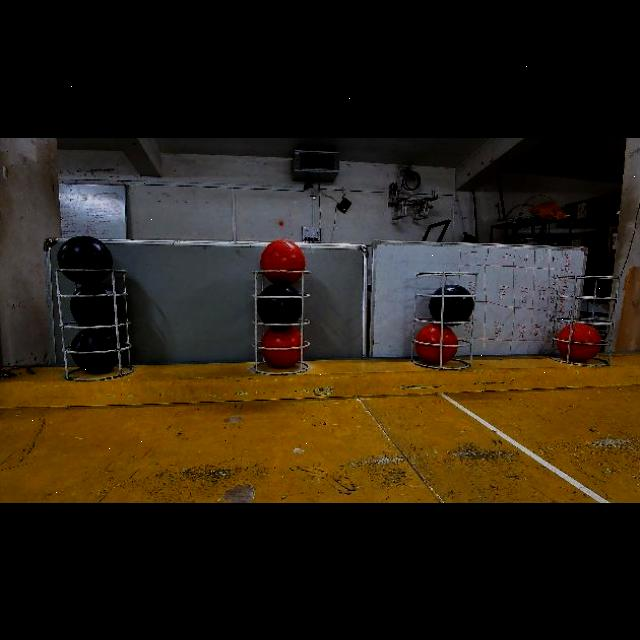P: (55, 233, 112, 284), (67, 328, 121, 374), (71, 281, 124, 327), (257, 282, 301, 324), (429, 283, 475, 322)
R: (260, 238, 306, 283), (261, 326, 305, 368), (415, 323, 459, 365), (554, 322, 599, 360)
S: (56, 264, 136, 374), (252, 266, 310, 376), (550, 272, 616, 368), (417, 274, 473, 376)
